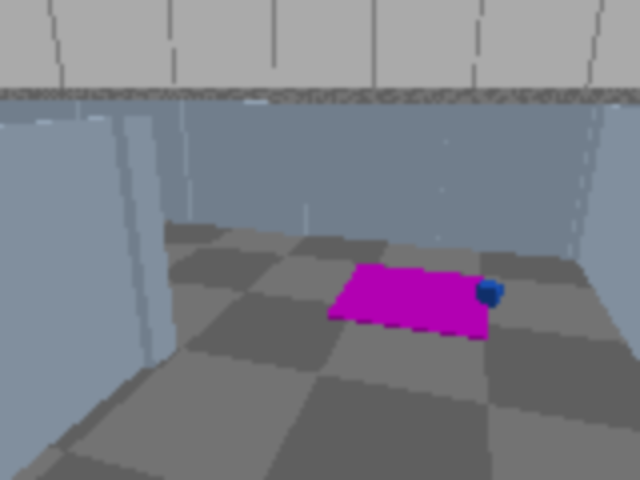goal_zone: (326, 263, 488, 341)
puck: (475, 279, 504, 308)
